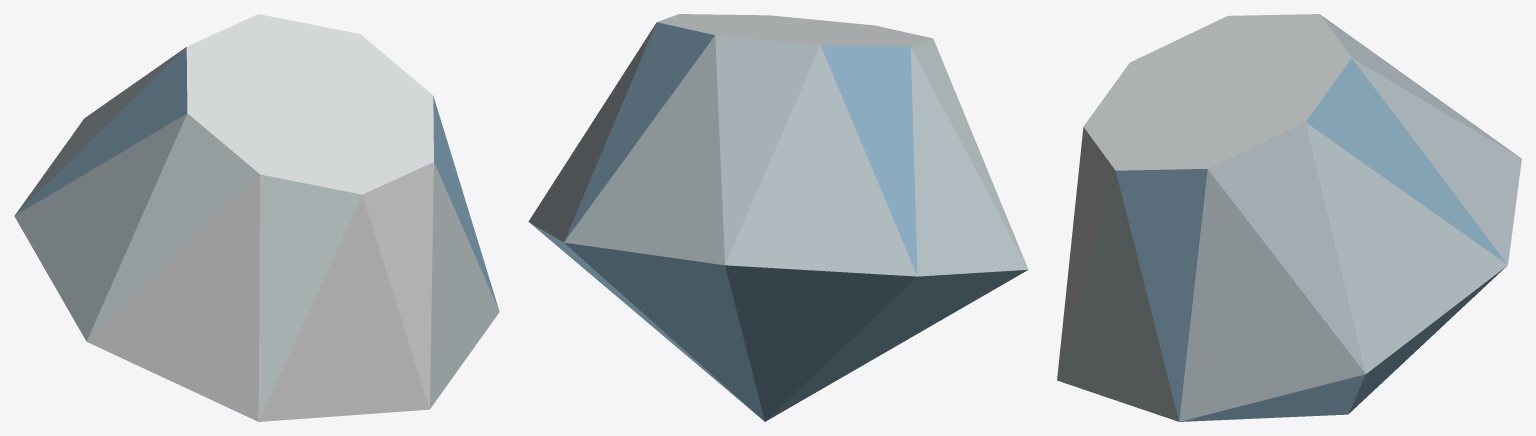
The model's file is item_gem_diamond.glb.
3 views of the same model, side by side, from view 1: azimuth 30°, elevation 25°; view 2: azimuth 150°, elevation 25°; view 3: azimuth 270°, elevation 25° (orthographic). The views are drawn at different scales.
Visible parts, largest first — view 1: item_gem_diamond_gloss; view 2: item_gem_diamond_gloss; view 3: item_gem_diamond_gloss.
Part boxes in pixels (x1,y1,x2,y2): item_gem_diamond_gloss: (14,14,499,421); item_gem_diamond_gloss: (528,14,1028,421); item_gem_diamond_gloss: (1057,14,1521,421).
Bounding box in the file's own units: 0.2484 × 0.2105 × 0.2333.
